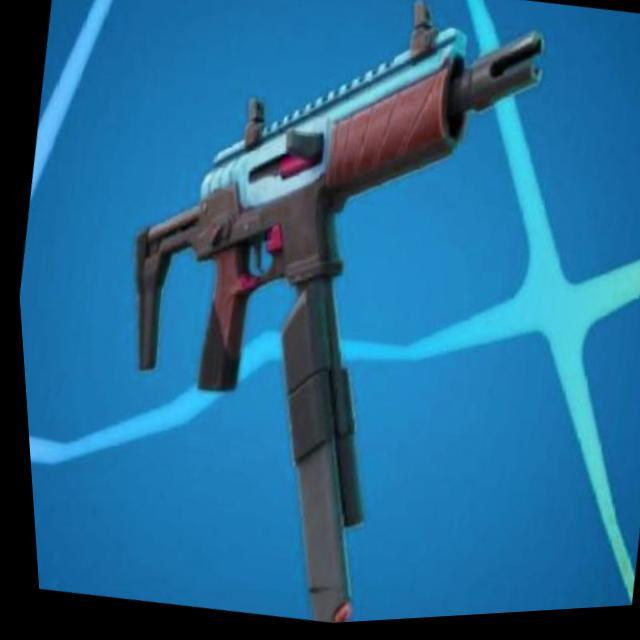weapon: (53, 0, 581, 638)
